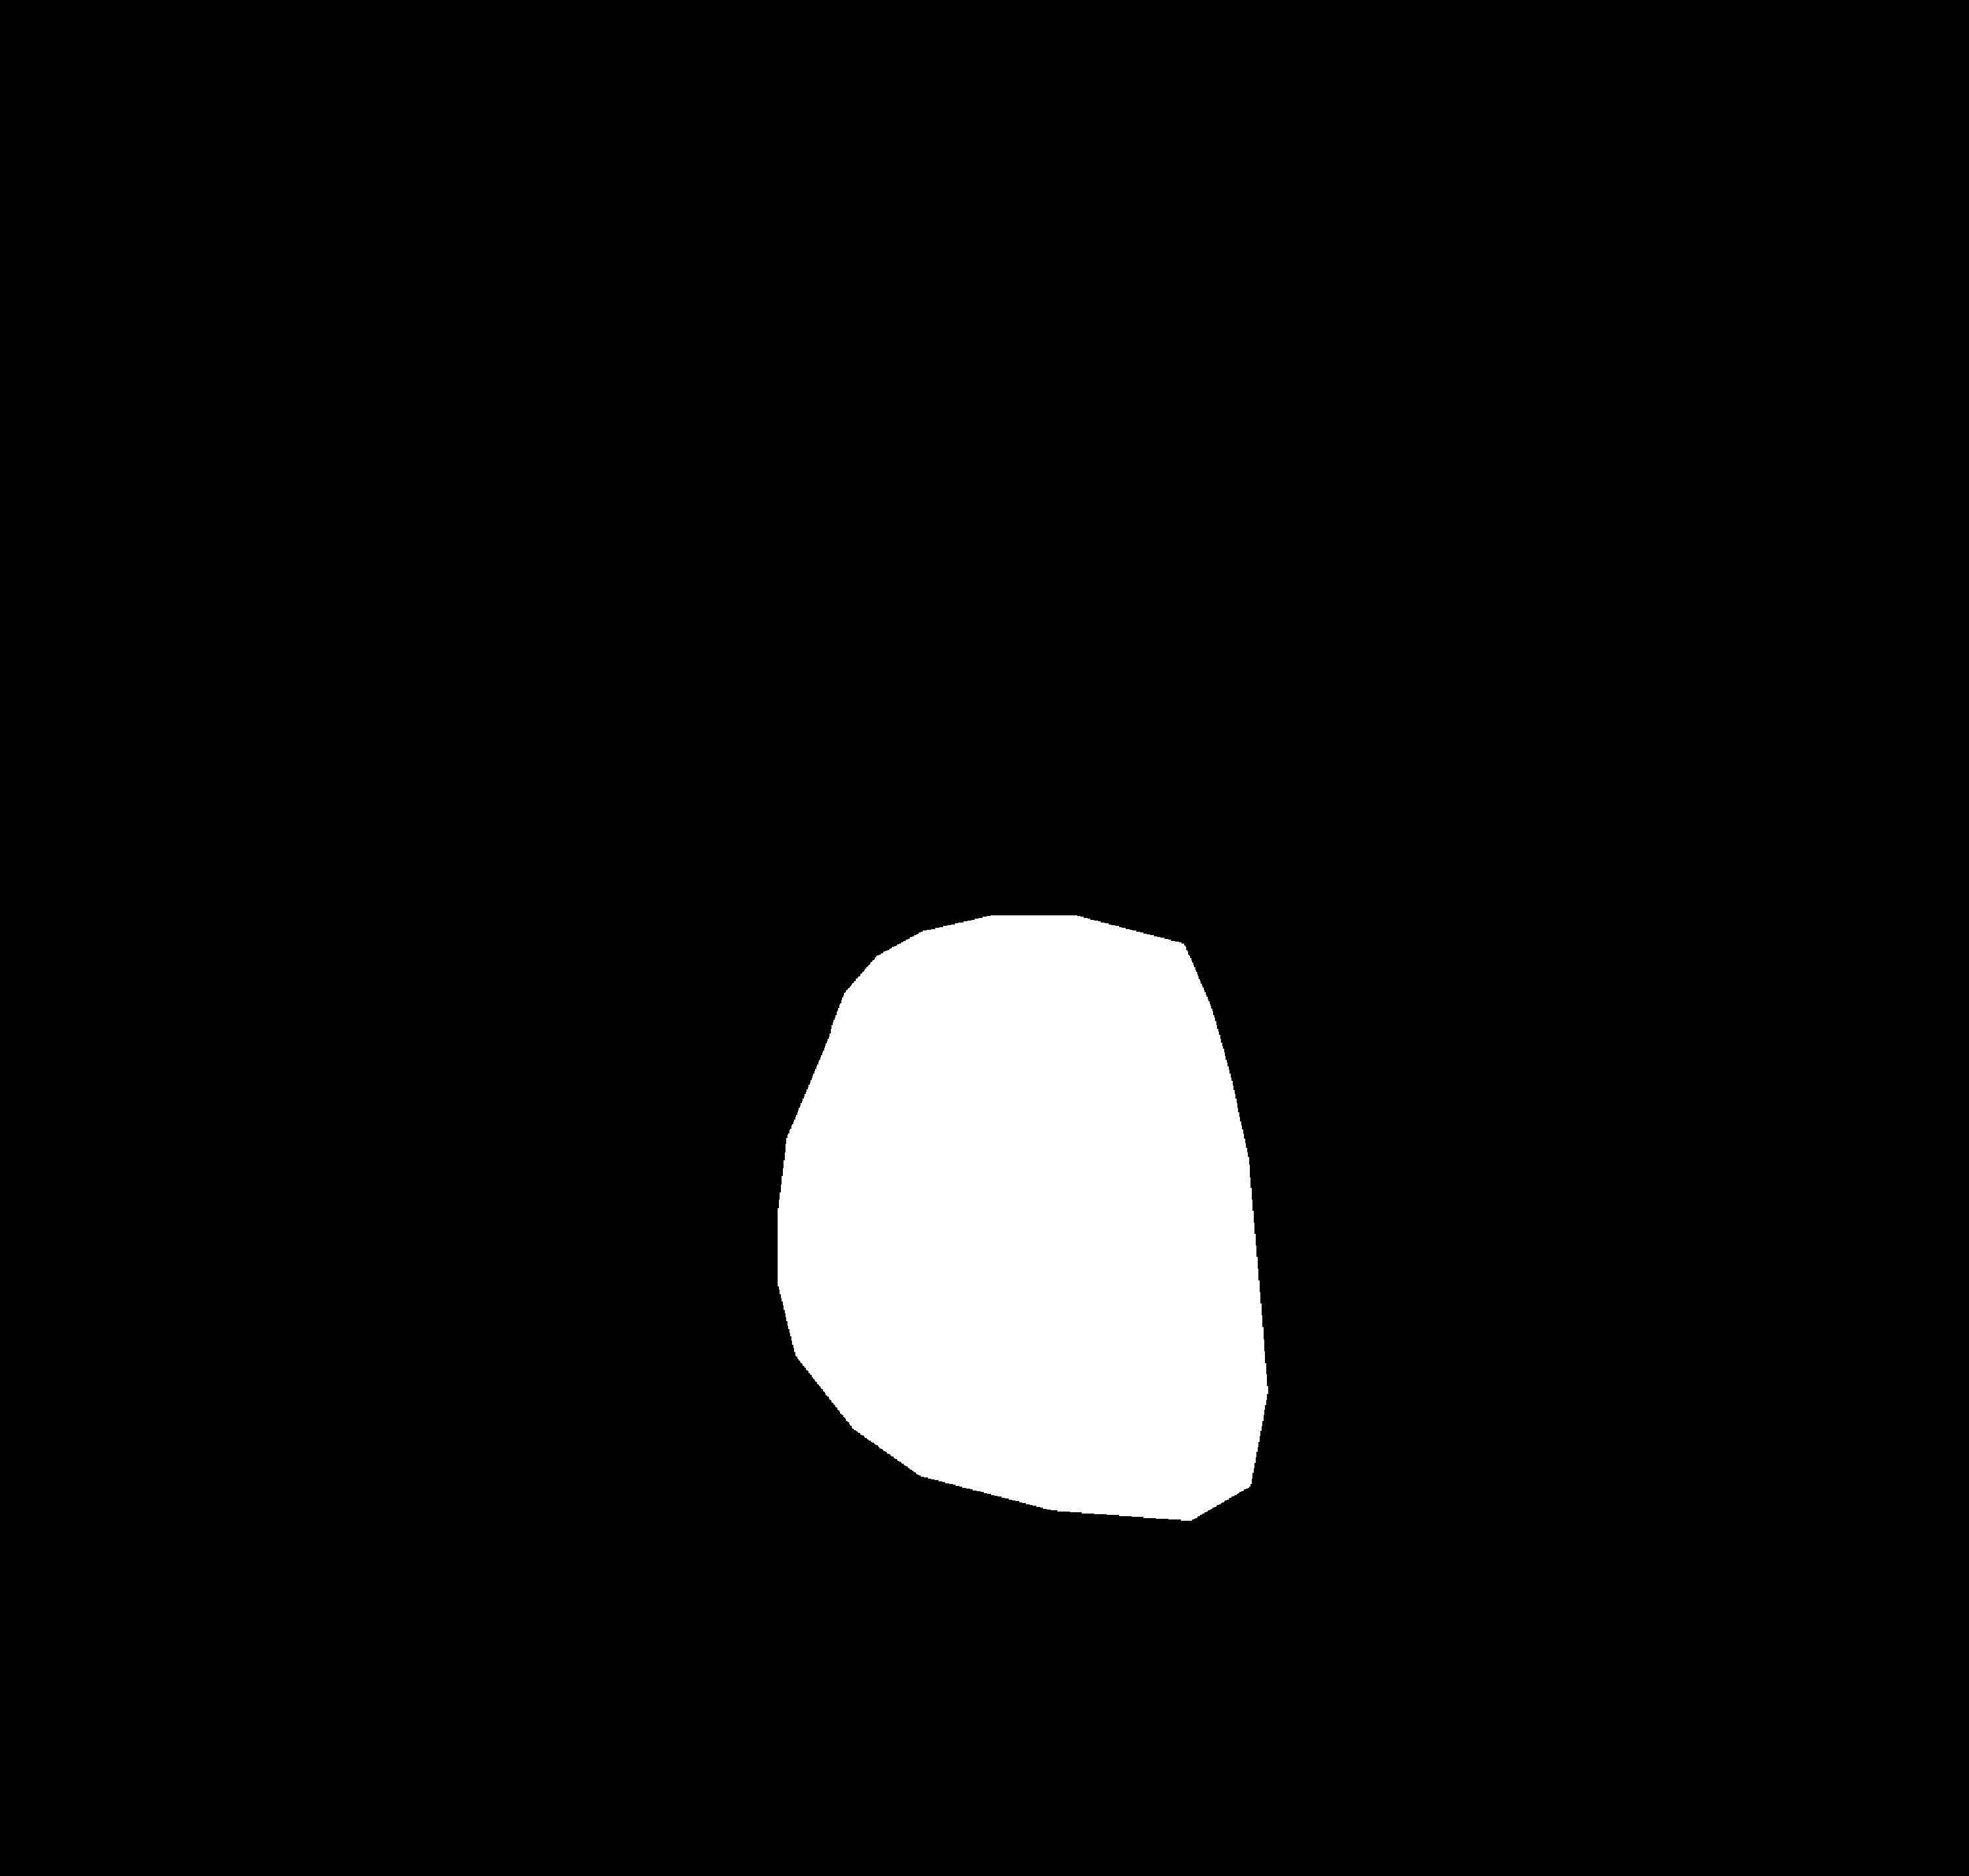heart: (782, 967, 1255, 1542)
left_lung: (299, 257, 858, 1813)
right_lung: (1030, 257, 1577, 1814)
